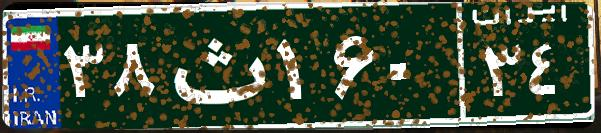0: (385, 28, 445, 110)
1: (273, 28, 330, 110)
3: (57, 26, 110, 107), (475, 38, 525, 113)
4: (525, 38, 570, 115)
6: (330, 28, 385, 110)
8: (110, 28, 158, 105)
ث: (158, 15, 273, 115)
